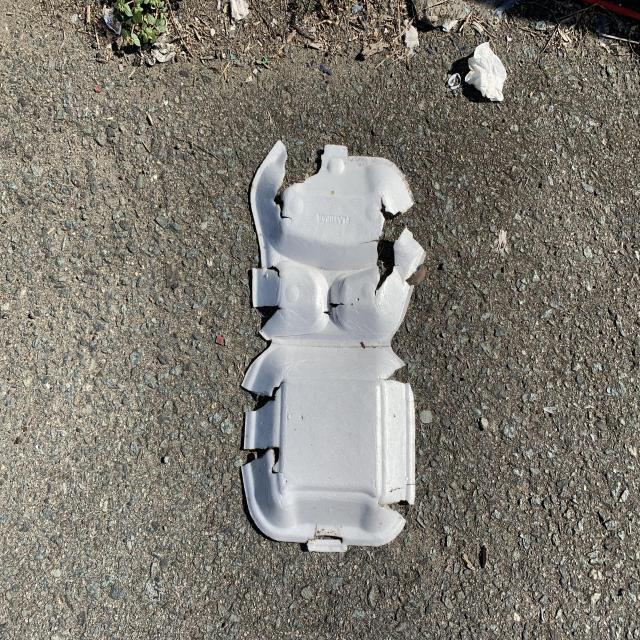litter: (241, 140, 427, 552), (465, 42, 507, 101), (101, 8, 124, 34), (230, 0, 249, 21)
